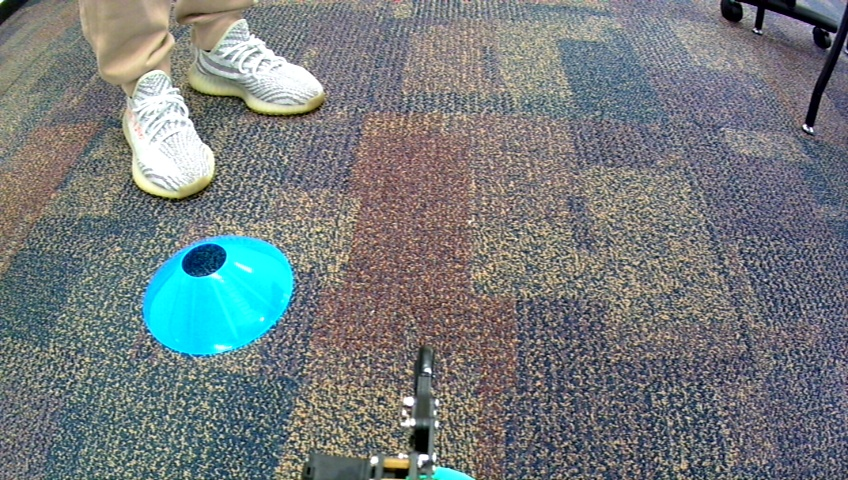cone: (141, 234, 293, 358)
